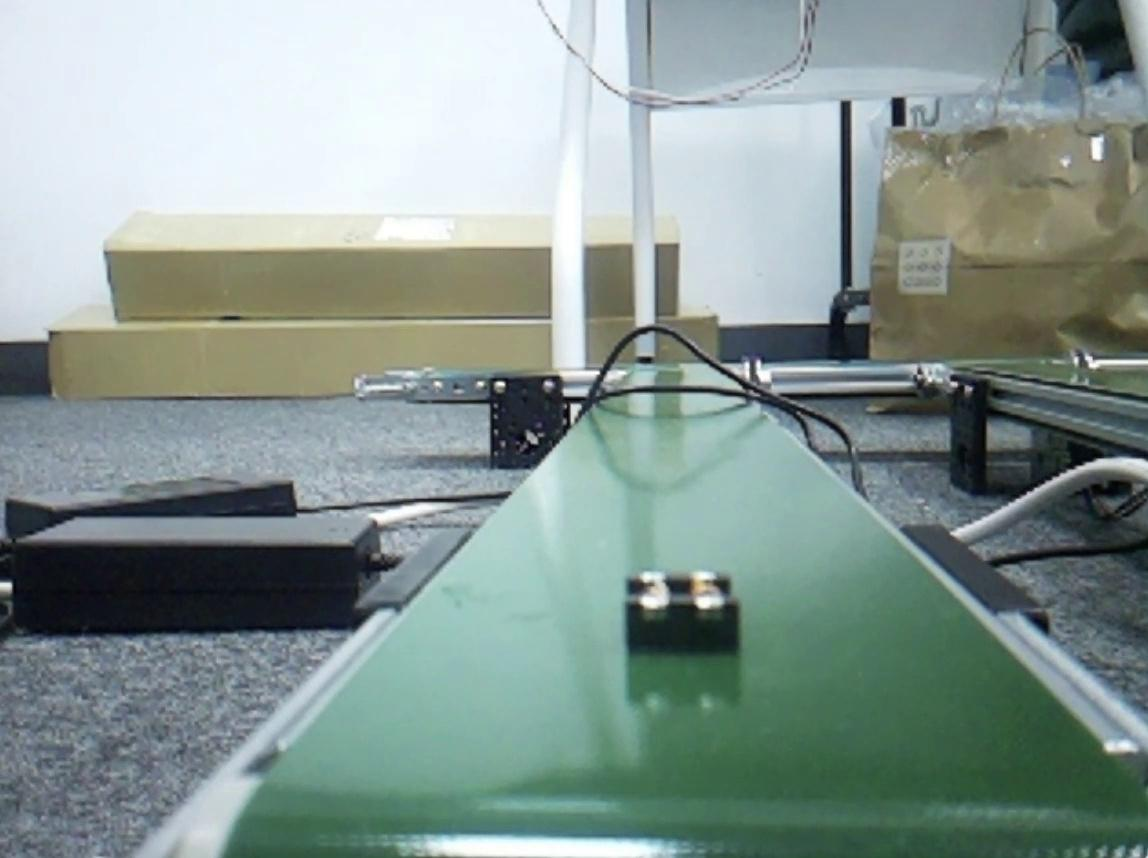inductor: (625, 570, 740, 648)
